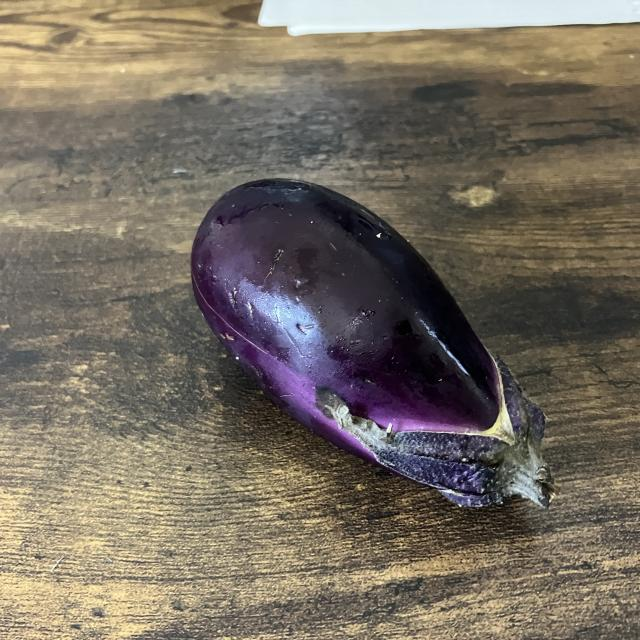eggplant: (189, 175, 562, 518)
